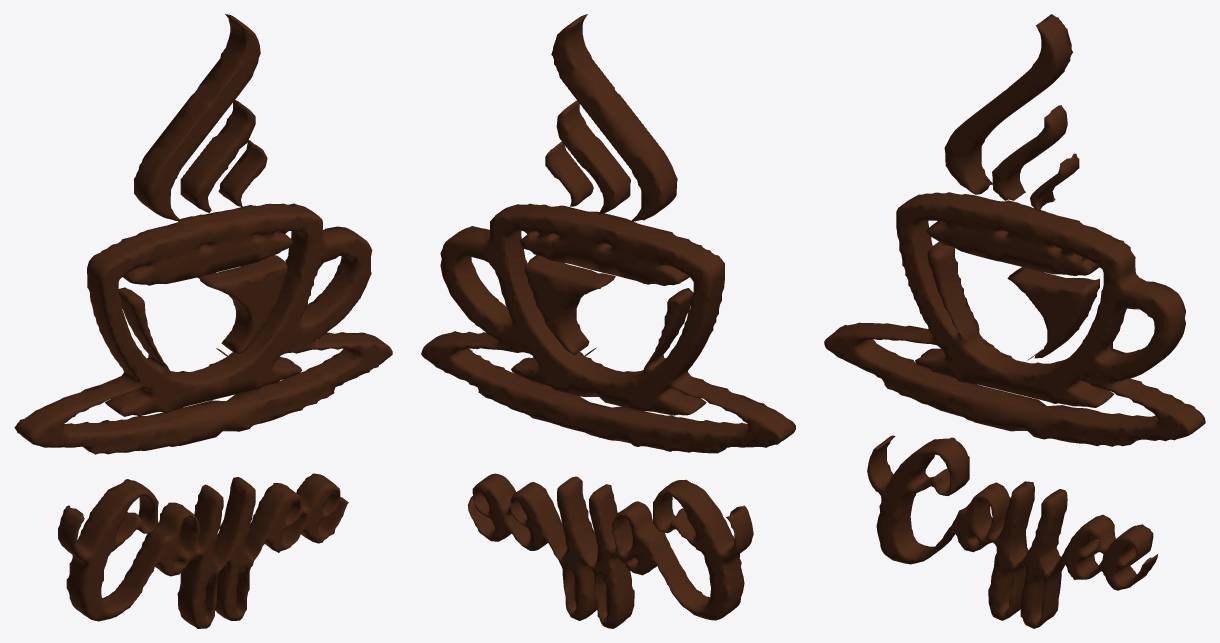
File: dod.glb
The picture shows the model from 3 angles, left to right: view 1: azimuth 30°, elevation 25°; view 2: azimuth 150°, elevation 25°; view 3: azimuth 330°, elevation 25°; orthographic projection.
Visible parts, largest first — view 1: Curve.001; view 2: Curve.001; view 3: Curve.001.
Part boxes in pixels (left/top/right/bottom): Curve.001: left=14, top=14, right=392, bottom=628; Curve.001: left=421, top=14, right=795, bottom=628; Curve.001: left=824, top=14, right=1205, bottom=628.
Size of the model in its own units: 0.1243 by 0.1956 by 0.01.
